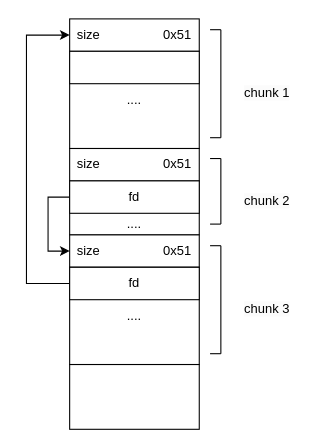
The diagram is 315 pixels wide and 448 high, and some of its shapes have lost their labels. Each missing label, with the centre of its shape:
"fd 0x00" goes at (x=134, y=67).
"Top Chunk (wilderness)" goes at (x=134, y=396).
